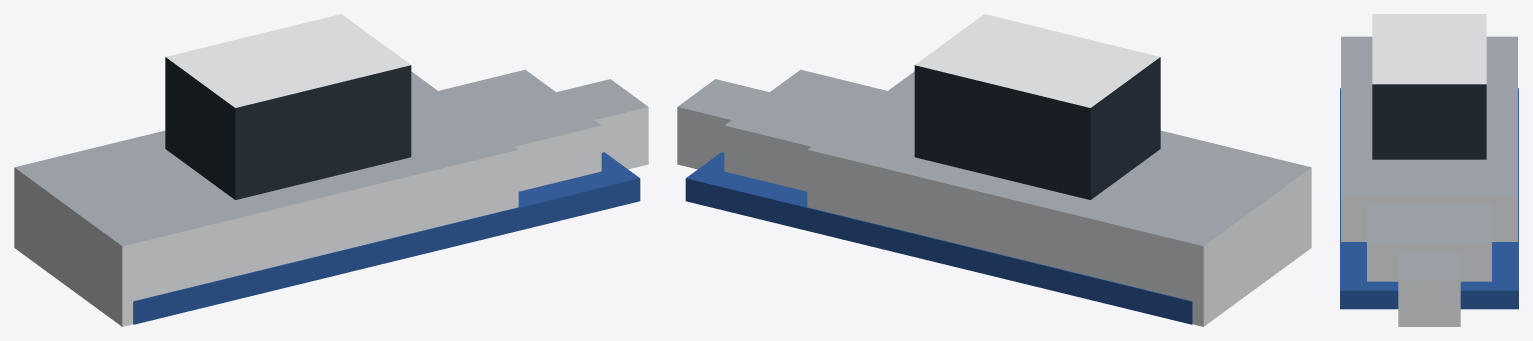
File: boat_motor.glb
3 renders of one model, left to right at view 1: azimuth 30°, elevation 25°; view 2: azimuth 150°, elevation 25°; view 3: azimuth 270°, elevation 25°, orthographic. The views are drawn at different scales.
Parts seen in each view (by area): view 1: boat_motor; view 2: boat_motor; view 3: boat_motor.
Part boxes in pixels (x1,y1,x2,y2): boat_motor: (14,14,648,326); boat_motor: (677,14,1311,326); boat_motor: (1340,14,1518,326).
Size of the model in its own units: 0.51 by 0.15 by 0.172.
